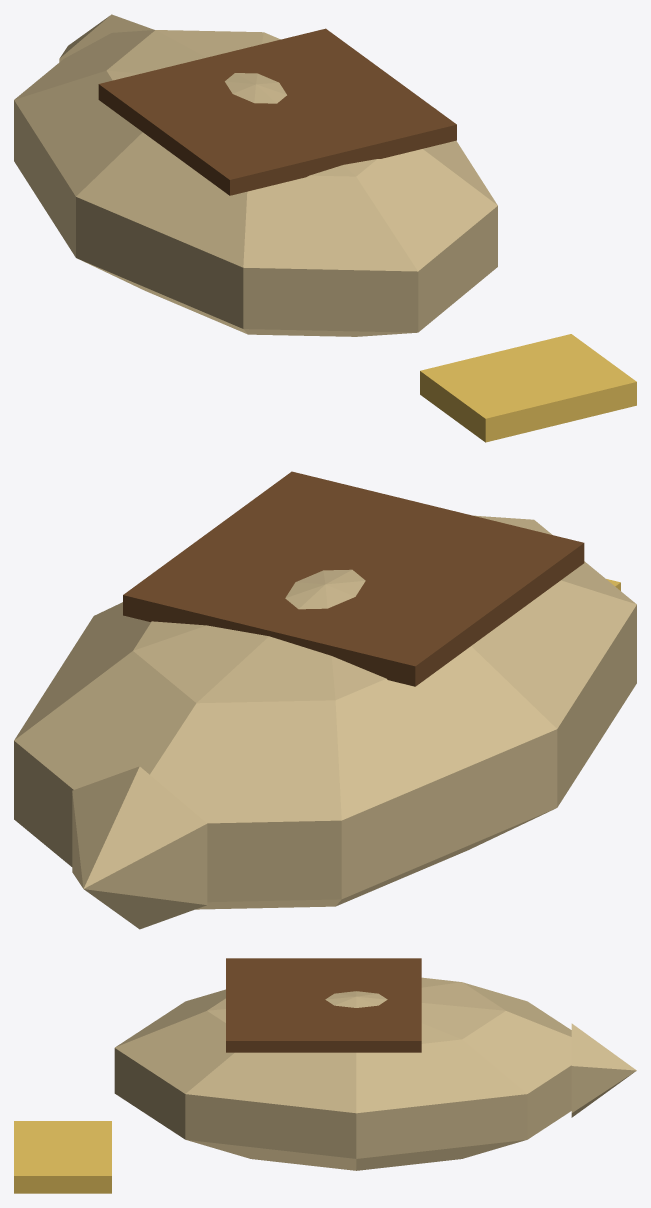
Rendered from prop_debris_feed_sack.glb.
The picture shows the model from 3 angles, top to bottom: view 1: azimuth 30°, elevation 25°; view 2: azimuth 150°, elevation 25°; view 3: azimuth 270°, elevation 25°; orthographic projection. The views are drawn at different scales.
Visible parts, largest first — view 1: prop_debris_feed_sack; view 2: prop_debris_feed_sack; view 3: prop_debris_feed_sack.
Part boxes in pixels (<box>): prop_debris_feed_sack: <box>14,14,636,442</box>; prop_debris_feed_sack: <box>14,471,636,929</box>; prop_debris_feed_sack: <box>14,958,636,1193</box>.
Size of the model in its own units: 0.4755 by 0.25 by 0.955.
1 material, 1 textured.
